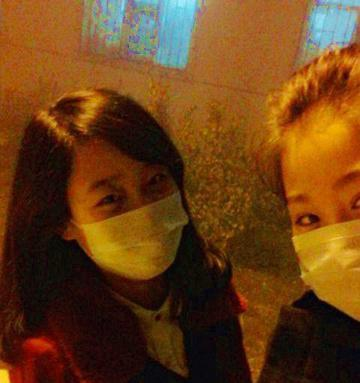OK: (77, 157, 184, 279), (285, 167, 360, 314)
